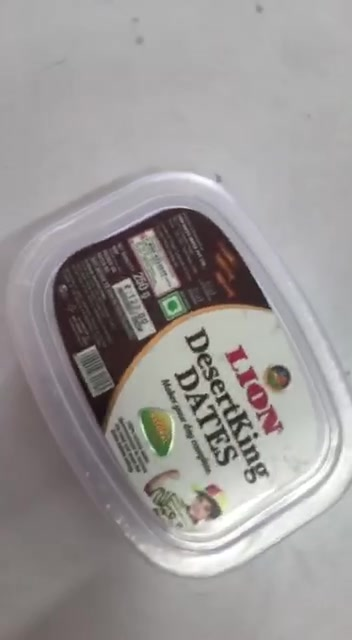Lion dates: (2, 168, 351, 578)
